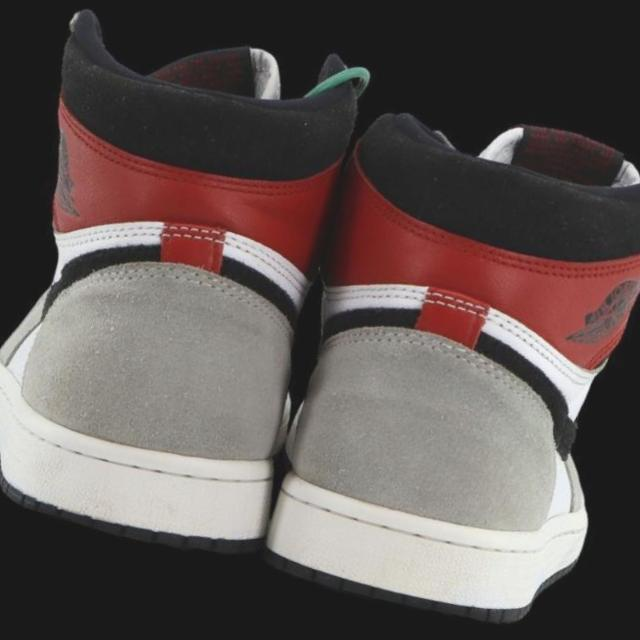nike_original_jordan: (242, 72, 640, 640), (0, 0, 389, 575)
